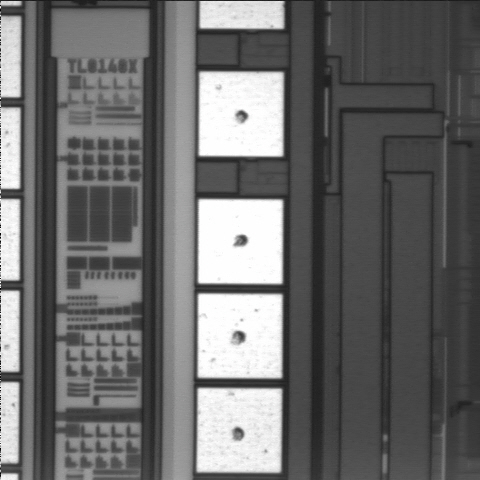pad: (198, 199, 283, 284), (197, 388, 282, 473), (199, 72, 283, 157), (198, 294, 282, 378)
